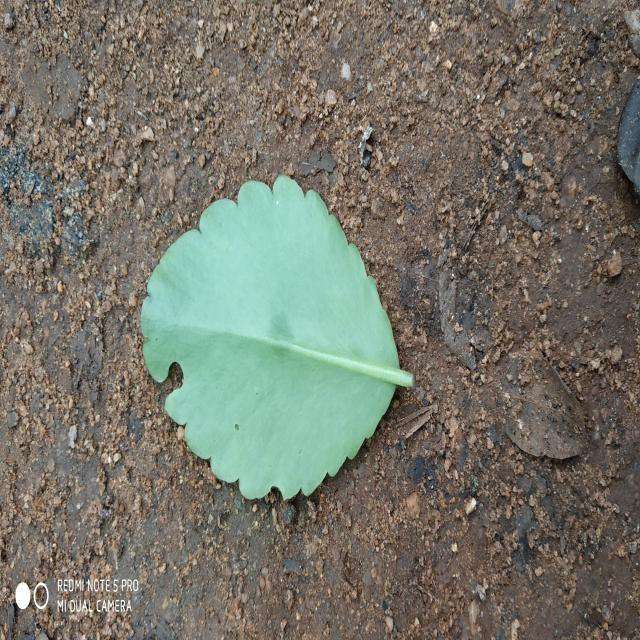spinach: (141, 176, 415, 498)
